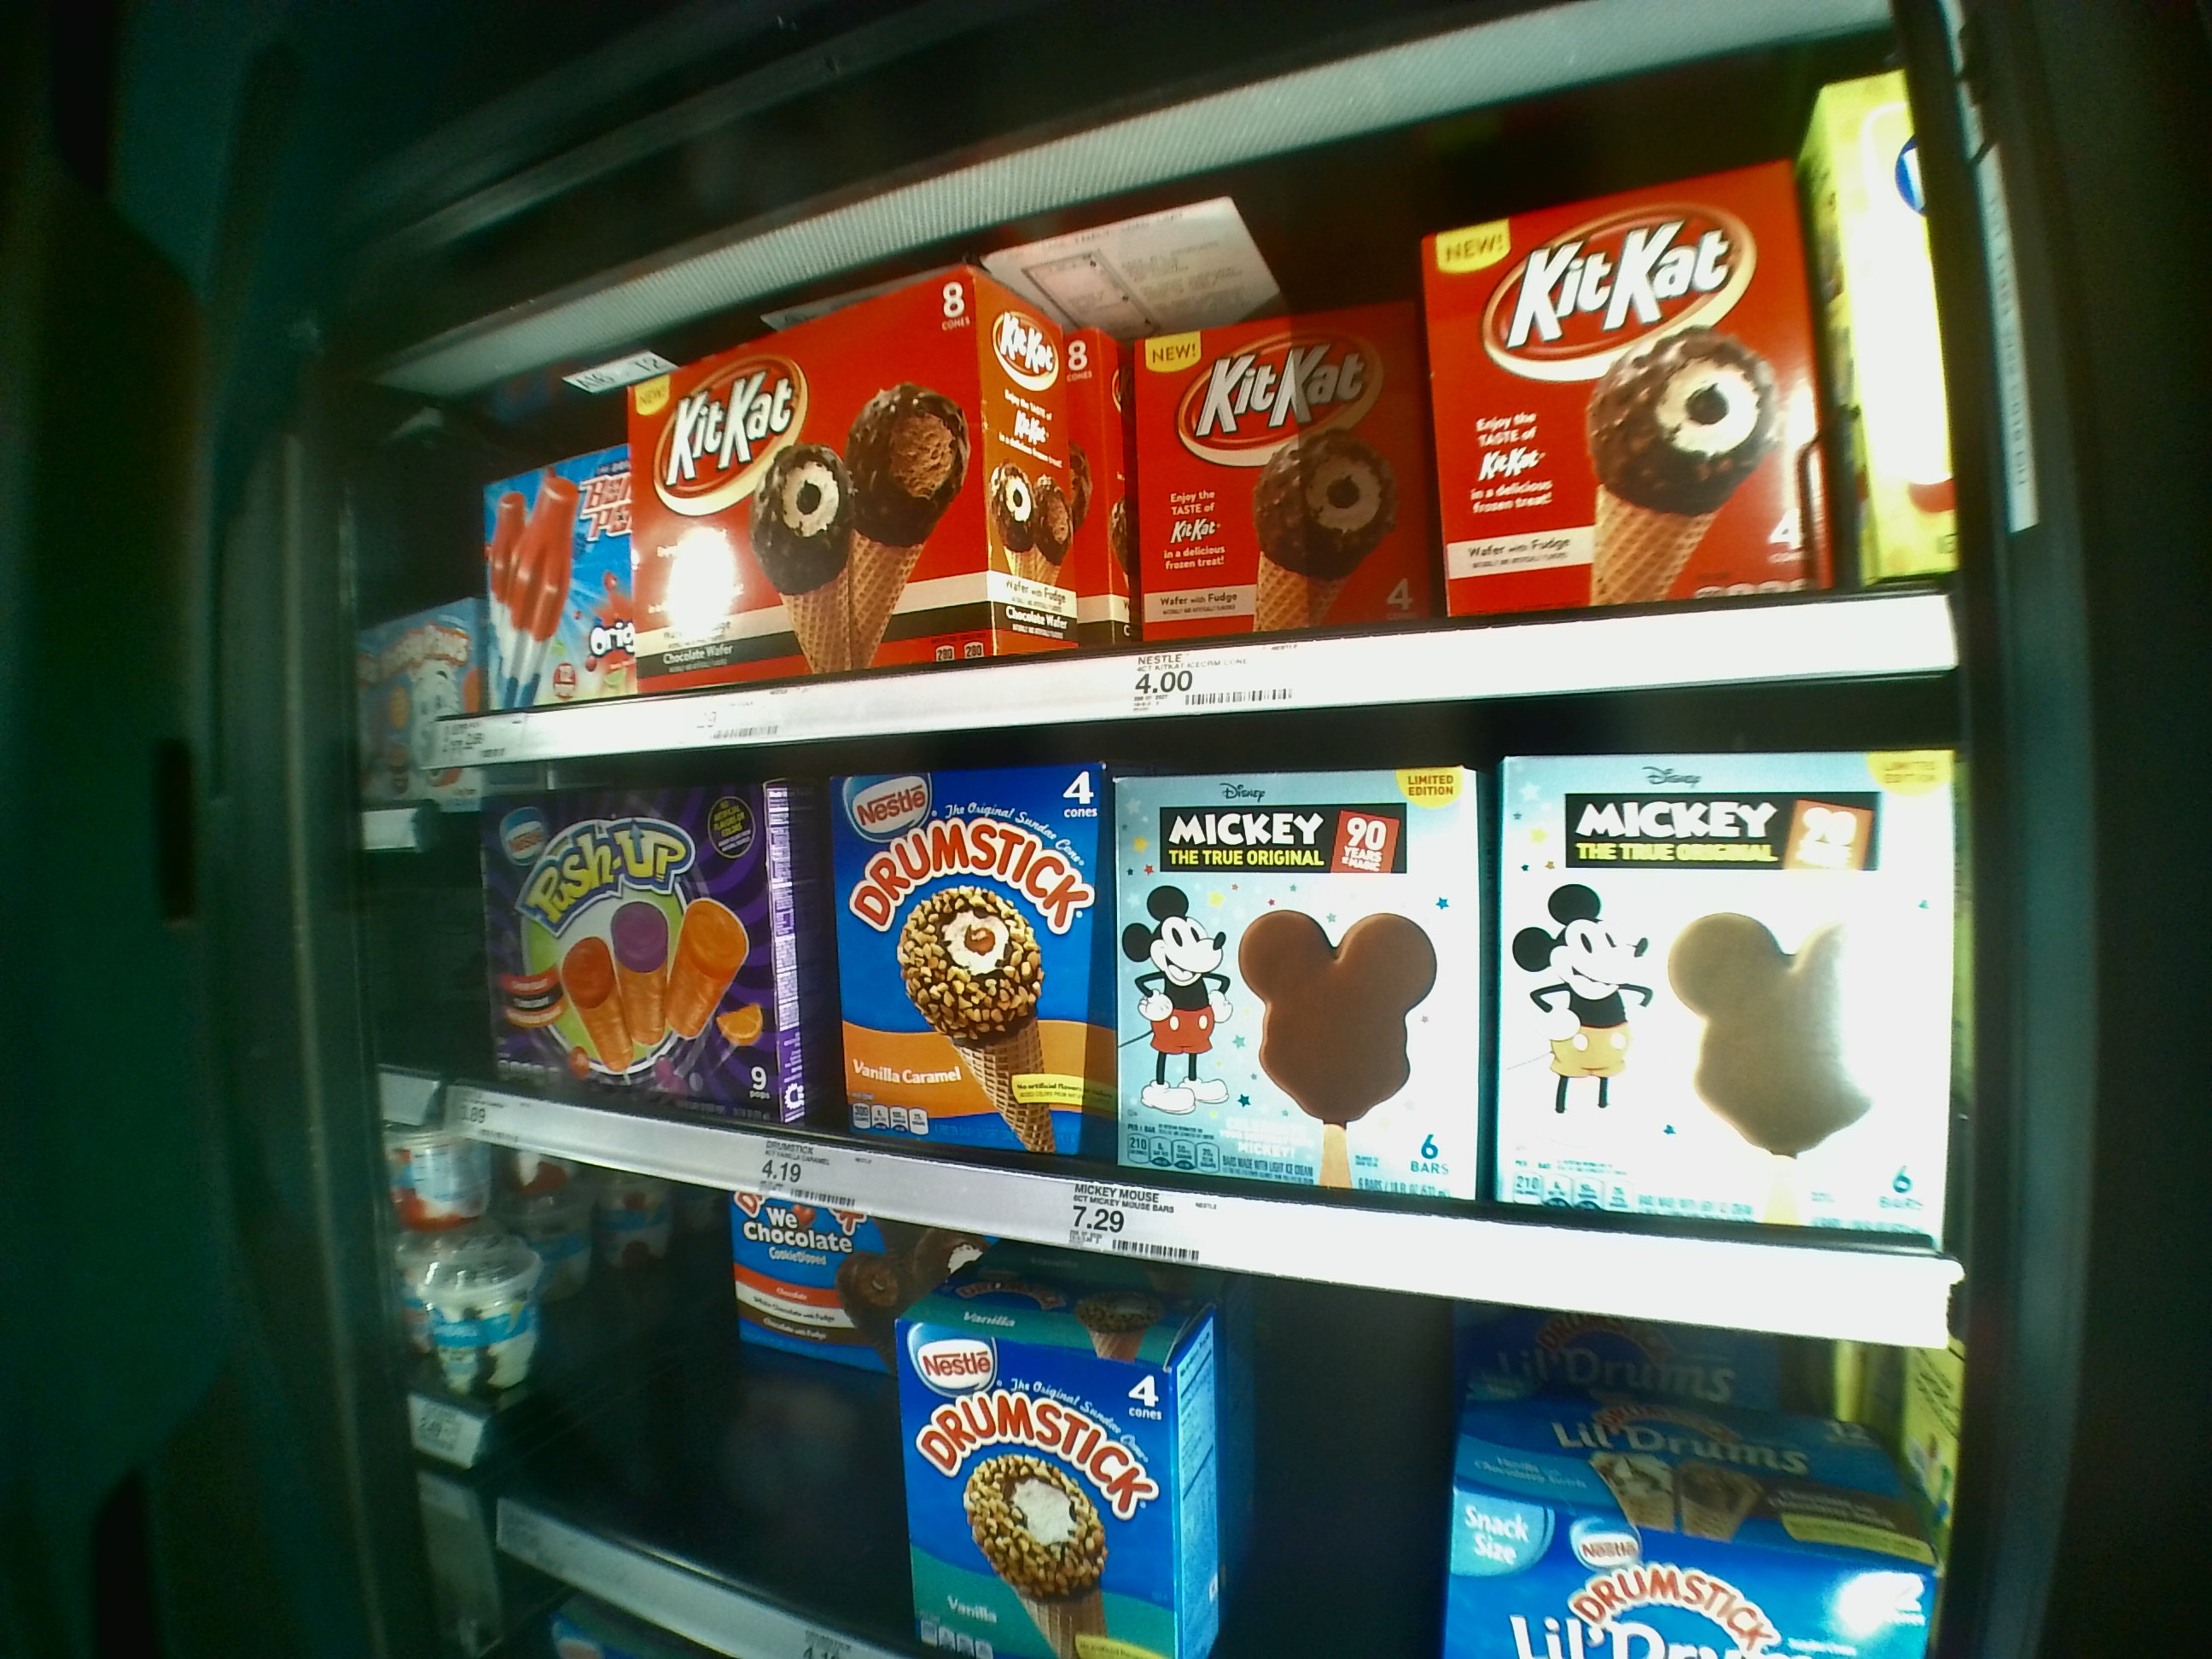shelf: (381, 223, 1973, 762), (392, 730, 1970, 1267)
